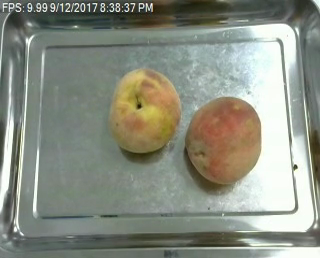Peach: (185, 95, 262, 184), (107, 67, 181, 154)
